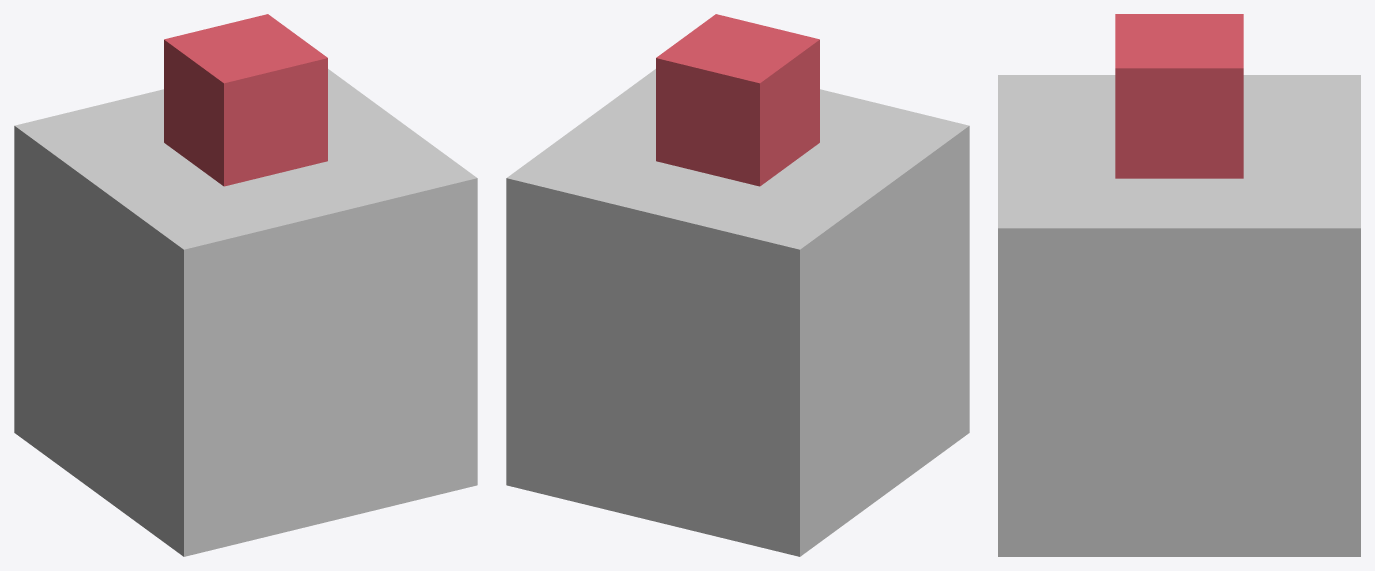
The picture shows the model from 3 angles, left to right: view 1: azimuth 30°, elevation 25°; view 2: azimuth 150°, elevation 25°; view 3: azimuth 270°, elevation 25°; orthographic projection. The views are drawn at different scales.
Visible parts, largest first — view 1: Cube; view 2: Cube; view 3: Cube.
Part boxes in pixels (x1,y1,x2,y2): Cube: (14, 14, 477, 556); Cube: (506, 14, 969, 556); Cube: (998, 14, 1360, 556).
Size of the model in its own units: 2 by 2.67 by 2.
